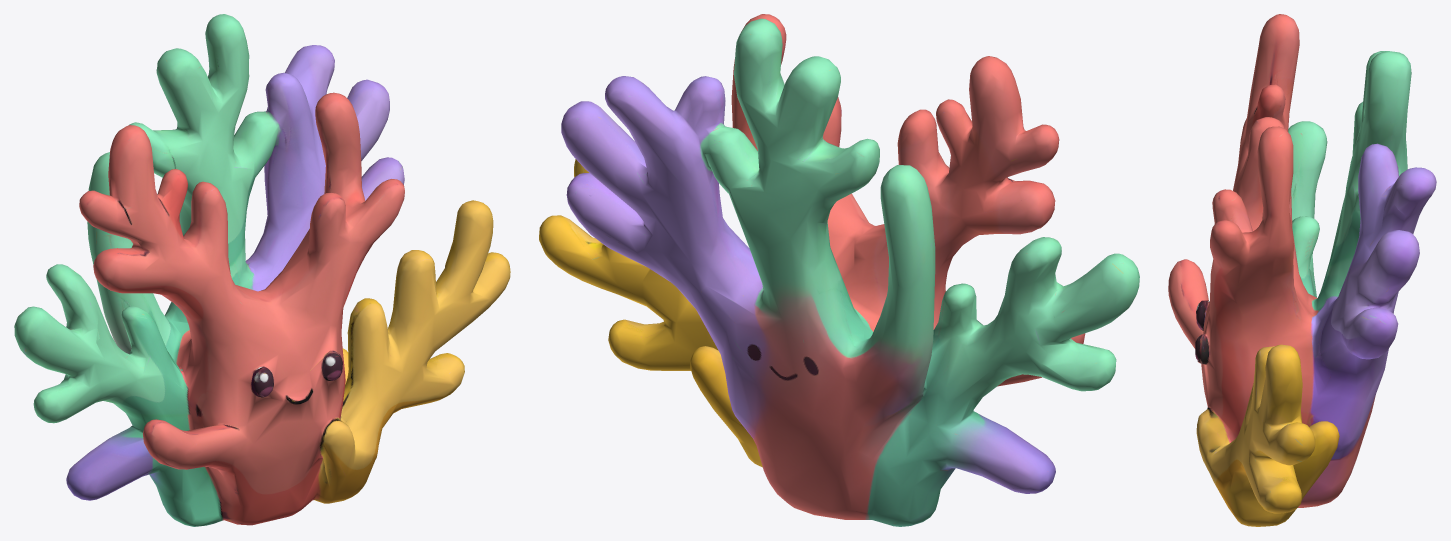
The model's file is static.glb.
3 renders of one model, left to right at view 1: azimuth 30°, elevation 25°; view 2: azimuth 150°, elevation 25°; view 3: azimuth 270°, elevation 25°, orthographic. The views are drawn at different scales.
Visible parts, largest first — view 1: Mesh_0; view 2: Mesh_0; view 3: Mesh_0.
Boxes of the visible parts, box(x1,y1,x2,y2) form: Mesh_0: box(14, 14, 510, 526); Mesh_0: box(539, 14, 1139, 526); Mesh_0: box(1168, 14, 1436, 526).
Size of the model in its own units: 1.9 by 1.61 by 0.865.
1 material, 1 textured.
